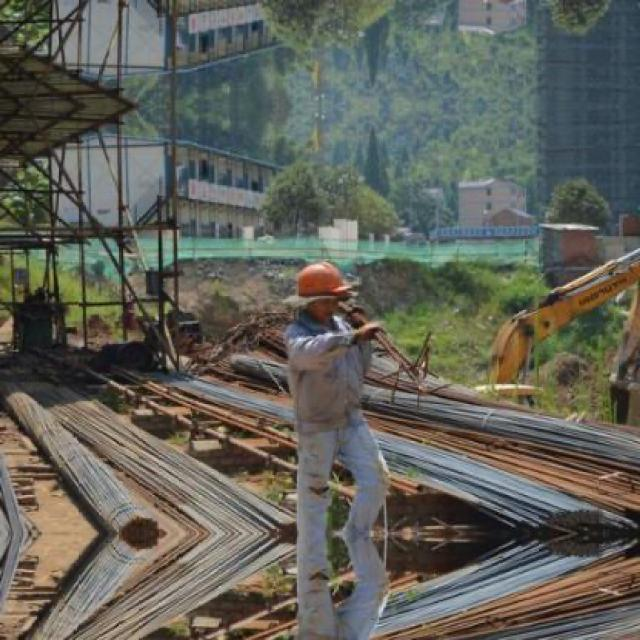helmet: (292, 256, 358, 322)
